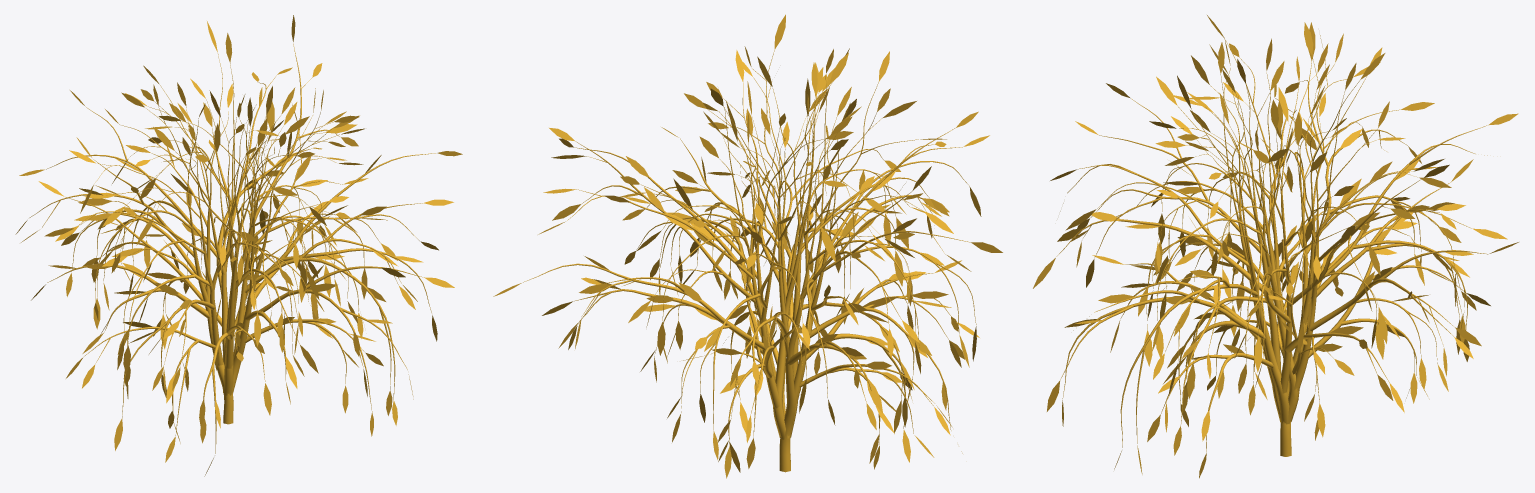
The model's file is Golden Tree.fbx.
The picture shows the model from 3 angles, left to right: view 1: azimuth 30°, elevation 25°; view 2: azimuth 150°, elevation 25°; view 3: azimuth 270°, elevation 25°; orthographic projection. The views are drawn at different scales.
Parts seen in each view (by area): view 1: tree, leaves; view 2: tree, leaves; view 3: tree, leaves.
Boxes of the visible parts, x1,y1,x2,y2 form: tree: (29, 43, 435, 453); leaves: (15, 15, 462, 476); tree: (523, 50, 976, 472); leaves: (493, 14, 1002, 478); tree: (1056, 40, 1488, 456); leaves: (1033, 15, 1518, 478).
Size of the model in its own units: 0.1492 by 0.1309 by 0.1362.
